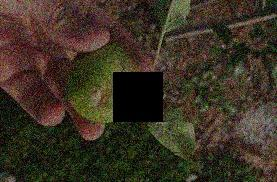rotten apple: (64, 43, 148, 127)
